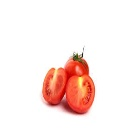tomato: (66, 75, 95, 113), (42, 67, 66, 104), (62, 56, 89, 78)
